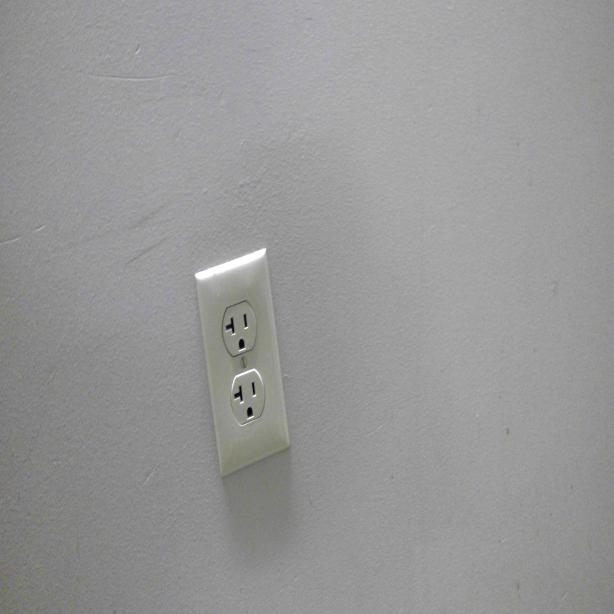typeb: (231, 373, 265, 424), (222, 304, 255, 354)
